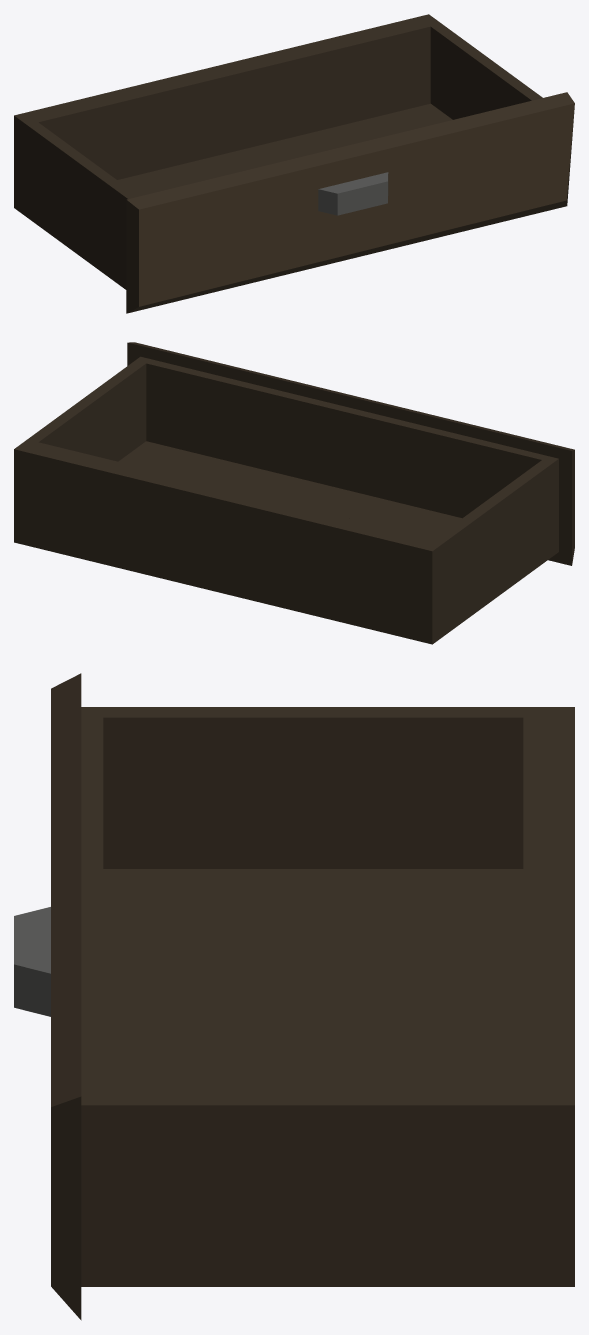
The model's file is SM_Prop_Wardrobe_01_Drawer_01.fbx.
The picture shows the model from 3 angles, top to bottom: view 1: azimuth 30°, elevation 25°; view 2: azimuth 150°, elevation 25°; view 3: azimuth 270°, elevation 25°; orthographic projection. The views are drawn at different scales.
Parts seen in each view (by area): view 1: SM_Prop_Wardrobe_01_Drawer_01; view 2: SM_Prop_Wardrobe_01_Drawer_01; view 3: SM_Prop_Wardrobe_01_Drawer_01.
Boxes of the visible parts, left/top/right/bottom form: SM_Prop_Wardrobe_01_Drawer_01: left=14, top=14, right=574, bottom=313; SM_Prop_Wardrobe_01_Drawer_01: left=14, top=342, right=574, bottom=644; SM_Prop_Wardrobe_01_Drawer_01: left=14, top=673, right=574, bottom=1320.
Bounding box in the file's own units: 107 × 26.41 × 59.82.
